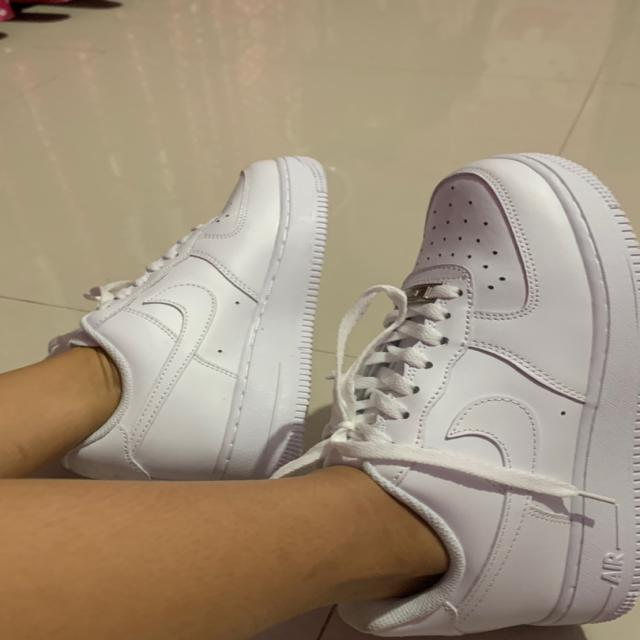nike original air force: (277, 154, 635, 640), (55, 150, 348, 480)
